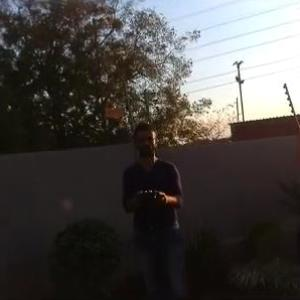follow: (119, 116, 190, 299)
